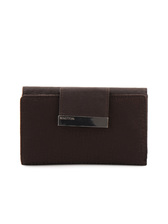other: (16, 86, 156, 170)
